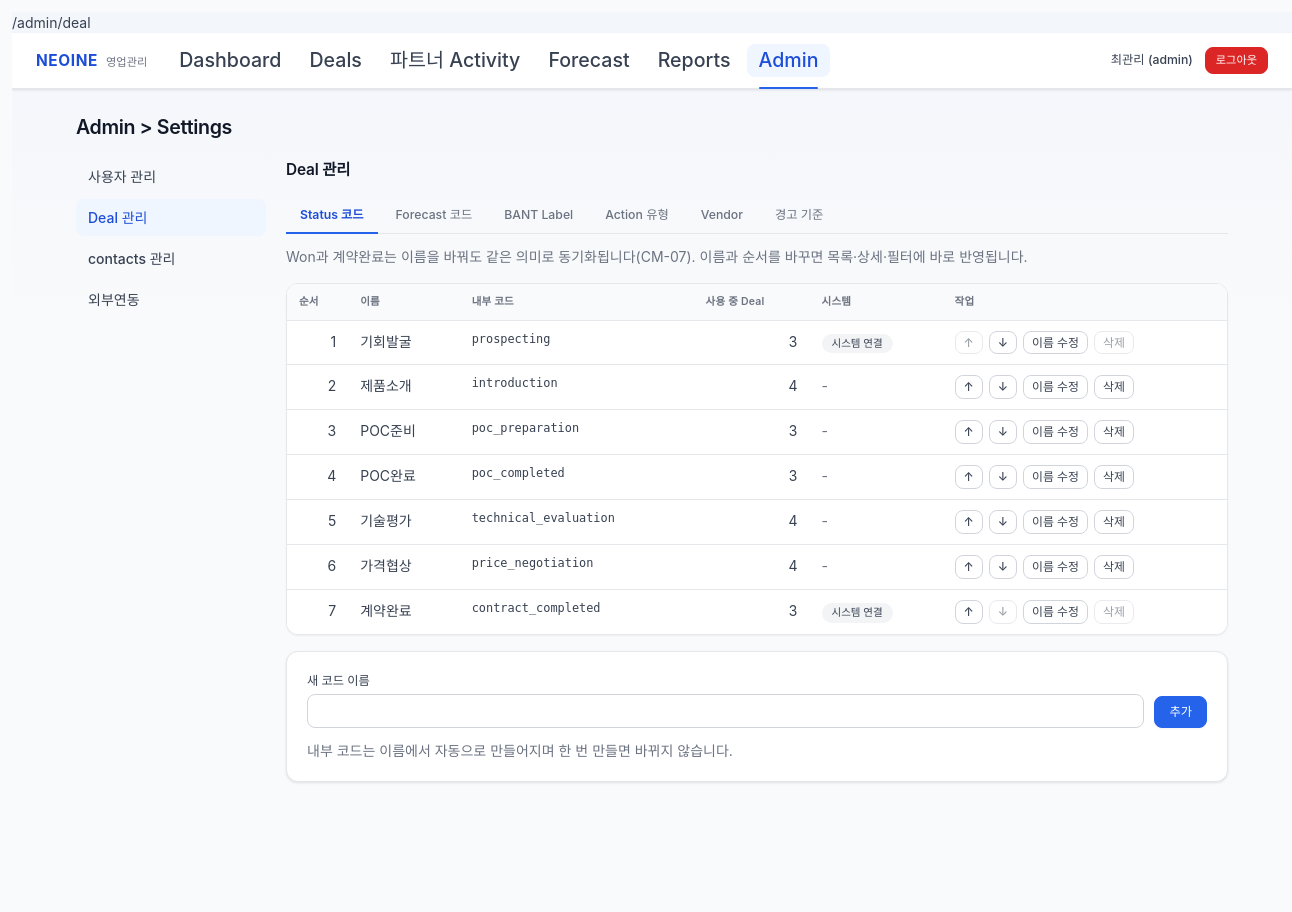
Scenario: 경고 기준 탭 (AC-14) › shows the current threshold (default 14) and that nothing was saved yet
This screenshot has width=1292, height=912.
Click the tab "경고 기준". click: (799, 216)
box: x1=761 y1=198 x2=837 y2=234
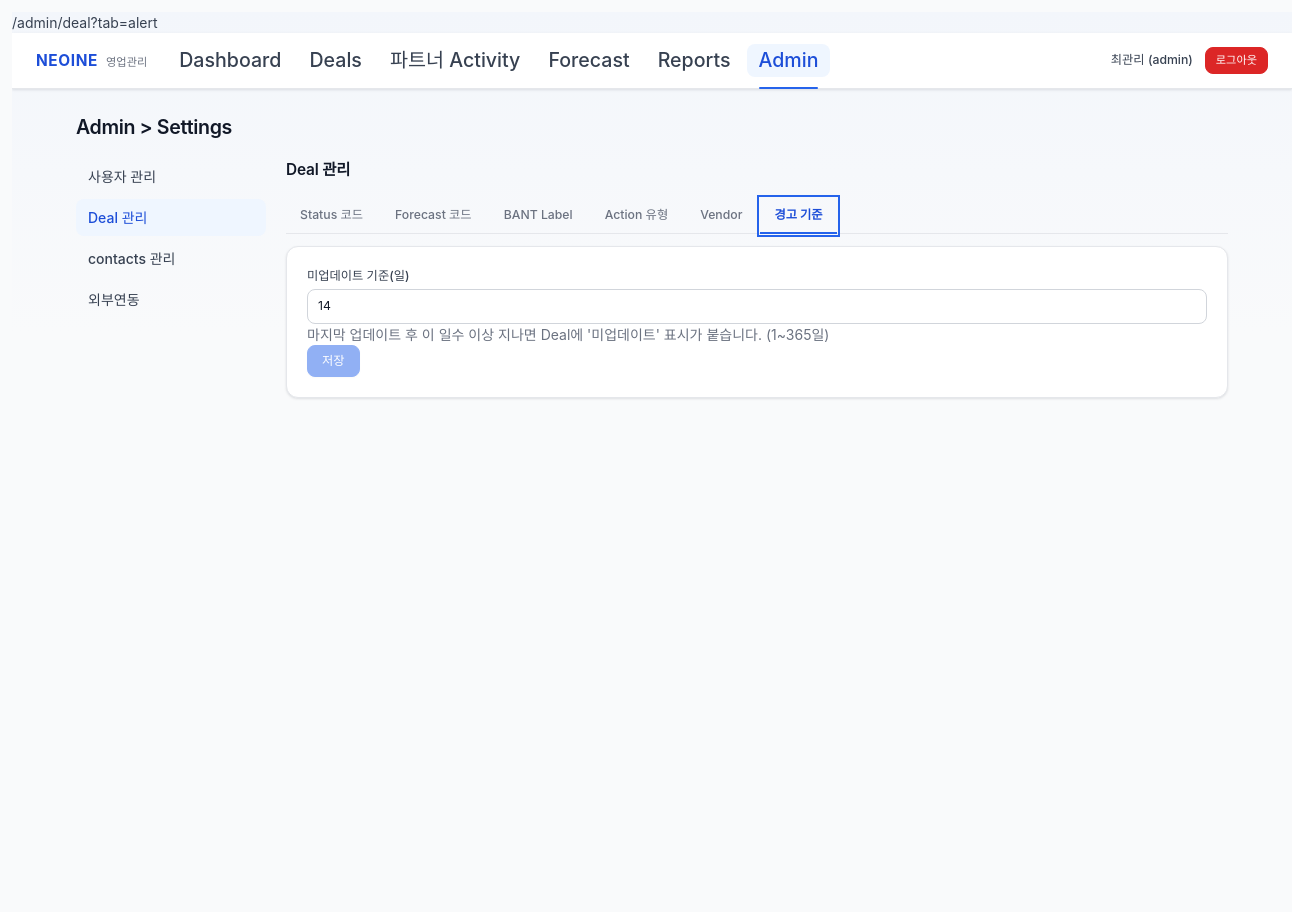
Check: the number field labelled "미업데이트 기준(일)" holds "14", box x1=307 y1=289 x2=1207 y2=324
Check: the button "저장" is disabled, box x1=307 y1=345 x2=360 y2=377
